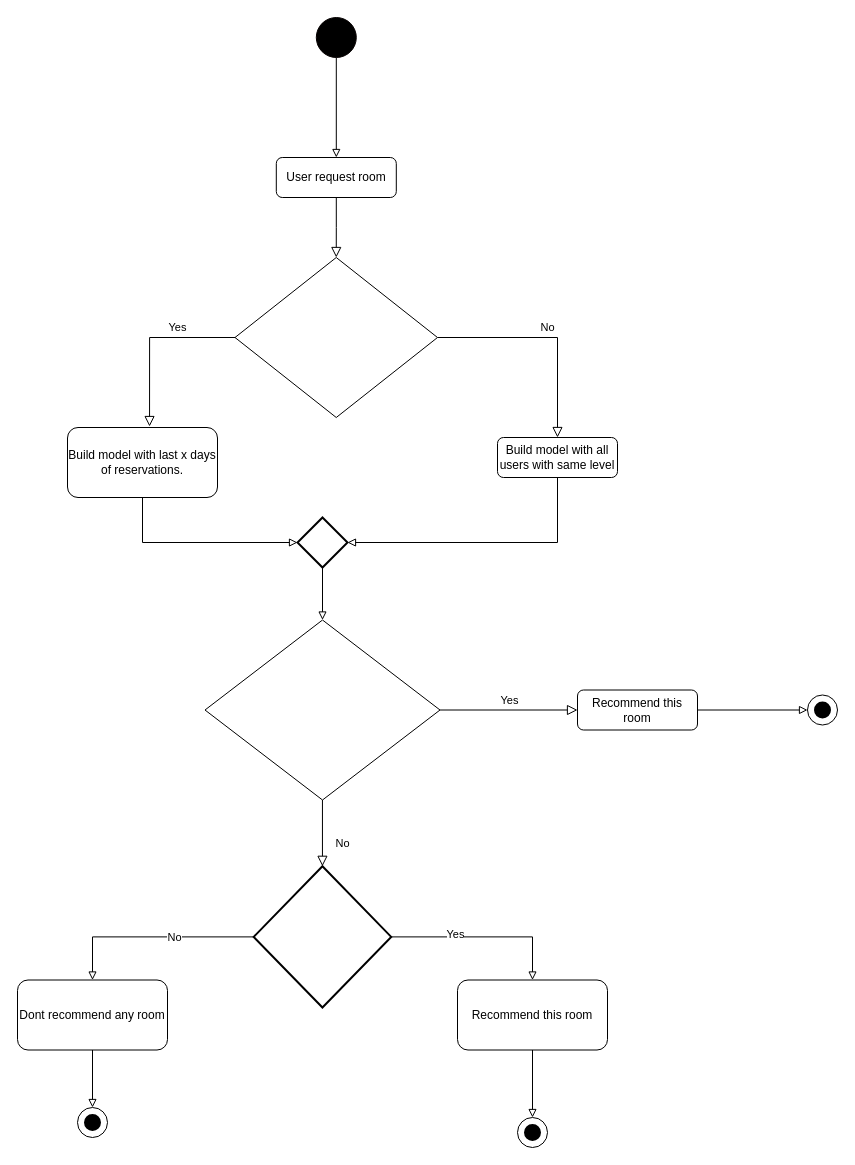
Some shapes in this 855 by 1165 pixel diagram are drawn without their labels. The box of each missing label's shape, as (x1, y1, x2, y2) in pixels:
Are Rooms recomended free?: (204, 619, 440, 800)
Does the user have enough reservations to build his own model?: (234, 256, 438, 418)
Has free rooms with similar number of seats?: (252, 865, 392, 1008)
